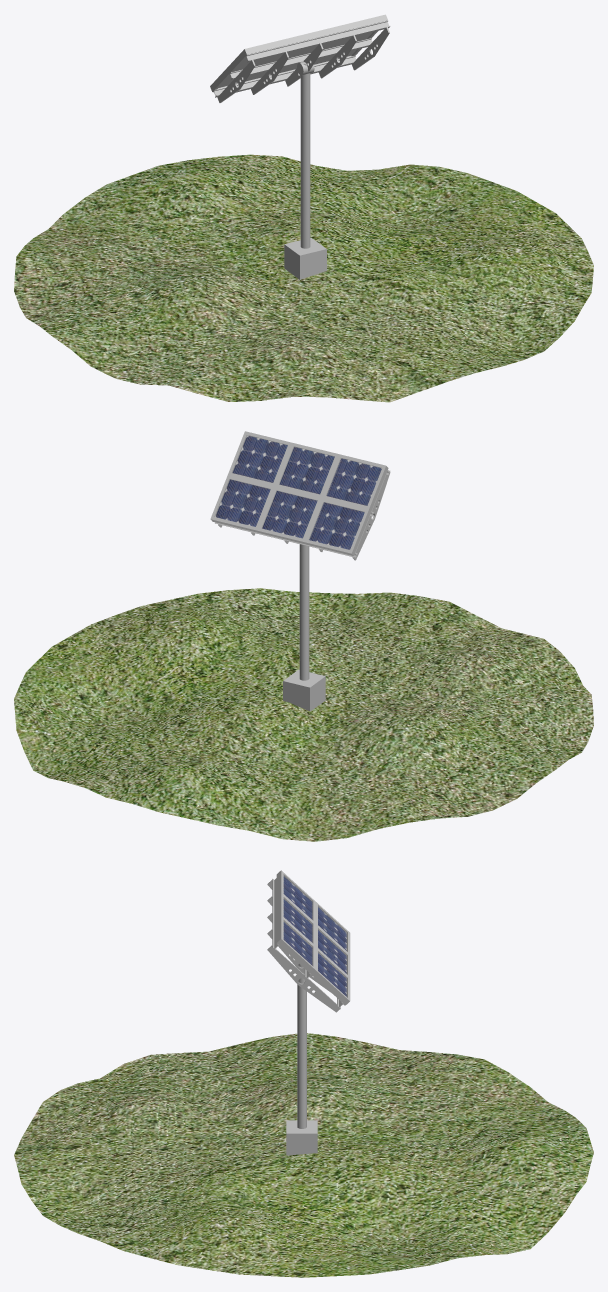
Rendered from solar_panel.glb.
3 views of the same model, one above another, from view 1: azimuth 30°, elevation 25°; view 2: azimuth 150°, elevation 25°; view 3: azimuth 270°, elevation 25° (orthographic).
Visible parts, largest first — view 1: Circle001, Panel_Metal_0, Cylinder001, Box001; view 2: Circle001, Panel_Panel_0, Panel_Metal_0, Cylinder001, Box001; view 3: Circle001, Panel_Metal_0, Panel_Panel_0, Cylinder001, Box001.
Part boxes in pixels (left/top/right/bottom): Circle001: left=14, top=154, right=593, bottom=402; Panel_Metal_0: left=210, top=14, right=390, bottom=102; Cylinder001: left=300, top=60, right=310, bottom=248; Box001: left=284, top=237, right=326, bottom=279; Circle001: left=14, top=588, right=593, bottom=841; Panel_Panel_0: left=215, top=435, right=381, bottom=549; Panel_Metal_0: left=210, top=431, right=390, bottom=560; Cylinder001: left=299, top=544, right=309, bottom=680; Box001: left=283, top=669, right=325, bottom=711; Circle001: left=14, top=1033, right=593, bottom=1277; Panel_Metal_0: left=267, top=870, right=350, bottom=1012; Panel_Panel_0: left=283, top=876, right=346, bottom=996; Cylinder001: left=297, top=964, right=306, bottom=1128; Box001: left=286, top=1120, right=317, bottom=1155.
Bounding box in the file's own units: 4.51 × 2.3 × 4.51.
3 materials, 2 textured.
